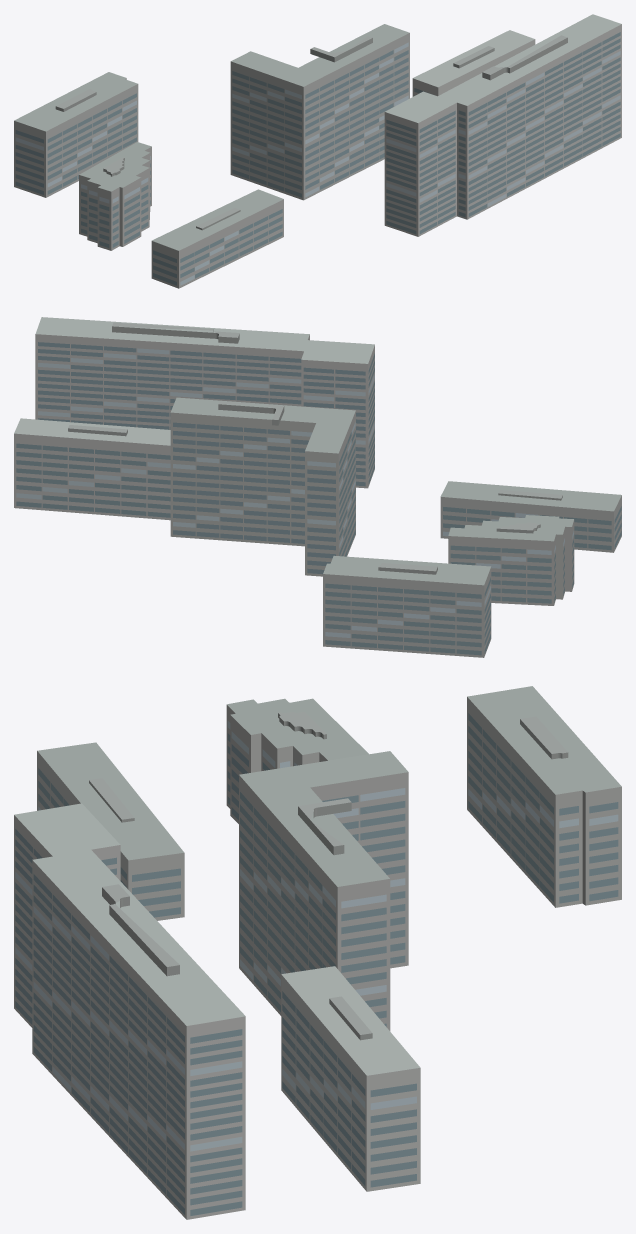
File: apt-a13586102.glb
The picture shows the model from 3 angles, top to bottom: view 1: azimuth 30°, elevation 25°; view 2: azimuth 150°, elevation 25°; view 3: azimuth 270°, elevation 25°; orthographic projection. The views are drawn at different scales.
Parts seen in each view (by area): view 1: apt-a13586102; view 2: apt-a13586102; view 3: apt-a13586102.
Boxes of the visible parts, x1,y1,x2,y2 form: apt-a13586102: [14, 14, 621, 288]; apt-a13586102: [14, 317, 621, 657]; apt-a13586102: [14, 686, 621, 1219].
Bounding box in the file's own units: 213 × 48 × 130.
